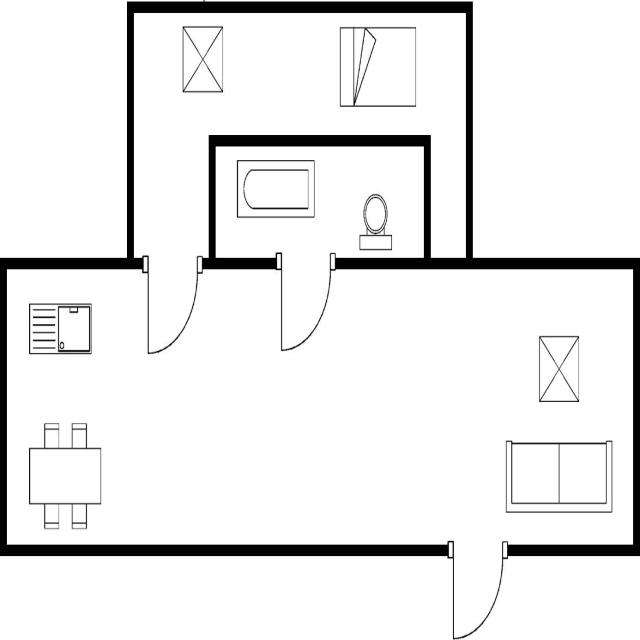bed: (338, 22, 419, 111)
coffee_table: (178, 19, 227, 98), (534, 329, 582, 409)
dining_table: (25, 414, 106, 533)
large_sink: (356, 188, 395, 254)
large_sofa: (502, 433, 614, 517)
sink: (26, 296, 95, 359)
tub: (234, 155, 318, 224)
